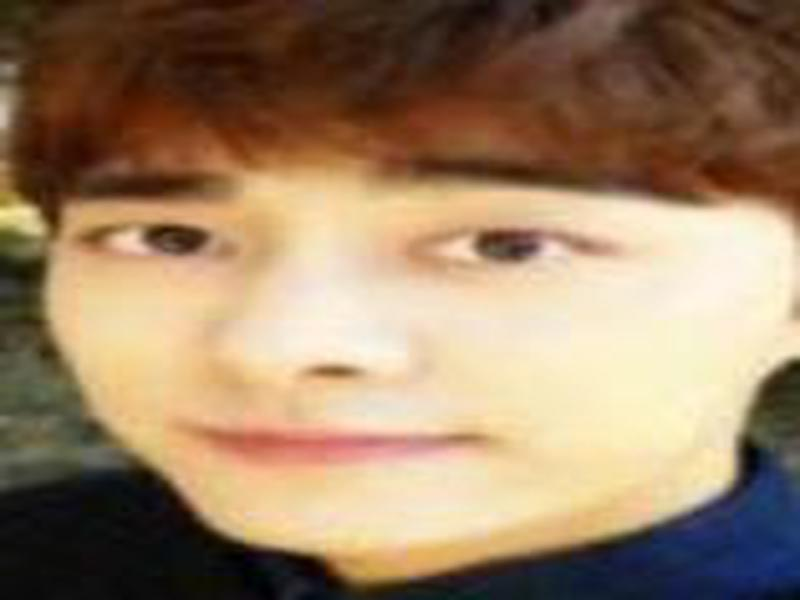without_mask: (39, 125, 800, 558)
